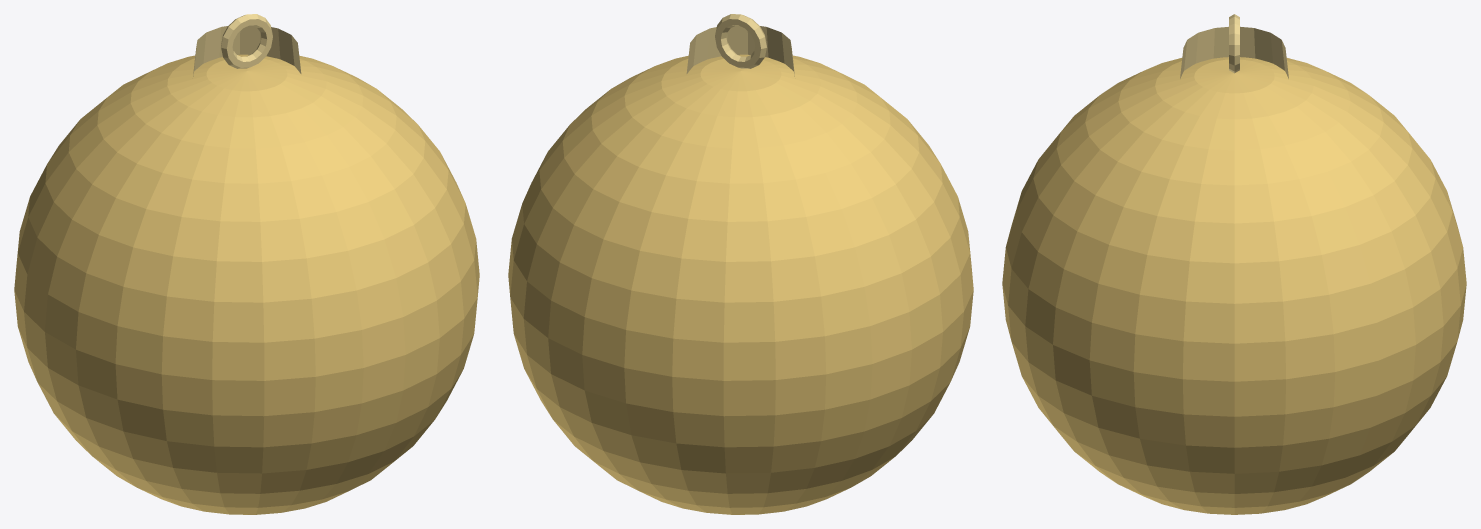
Rendered from bauble-gold-3in.glb.
The picture shows the model from 3 angles, left to right: view 1: azimuth 30°, elevation 25°; view 2: azimuth 150°, elevation 25°; view 3: azimuth 270°, elevation 25°; orthographic projection.
Visible parts, largest first — view 1: bauble; view 2: bauble; view 3: bauble.
Part boxes in pixels (box(x1,y1,x2,y2)): bauble: box(14, 14, 479, 514); bauble: box(508, 14, 973, 514); bauble: box(1002, 14, 1466, 514).
Size of the model in its own units: 0.0672 by 0.0762 by 0.0672.
